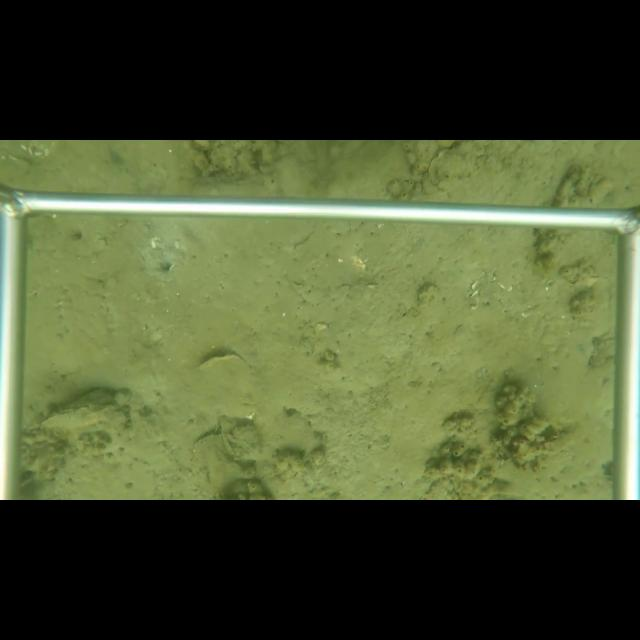Oyster-Closed: (421, 140, 494, 197), (39, 401, 131, 431)
